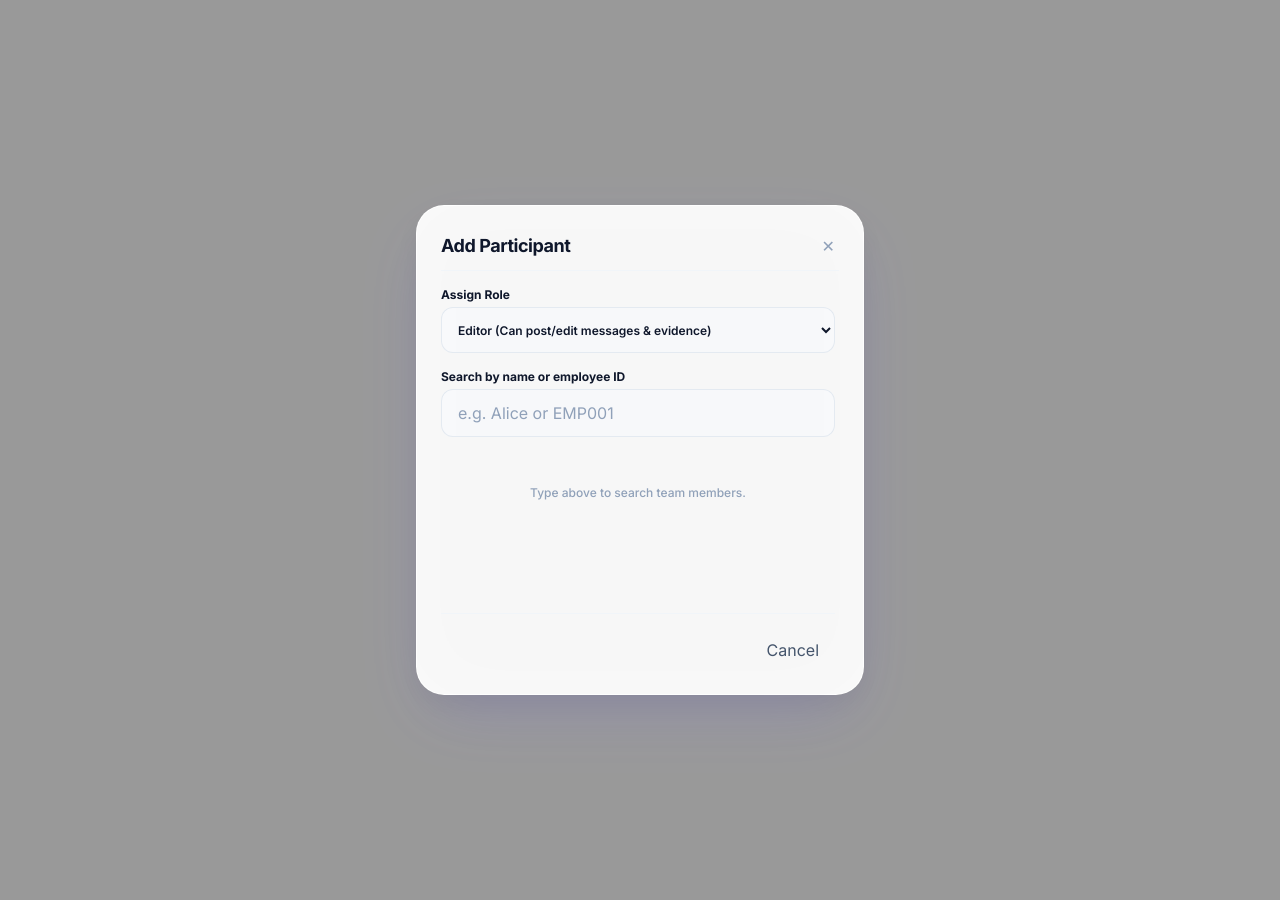
Test: AddParticipantModal — search › shows no results message when search returns empty array
In the field labelled "Search by name or employee ID": point(638, 413) [441, 389, 835, 437], type "xyz"
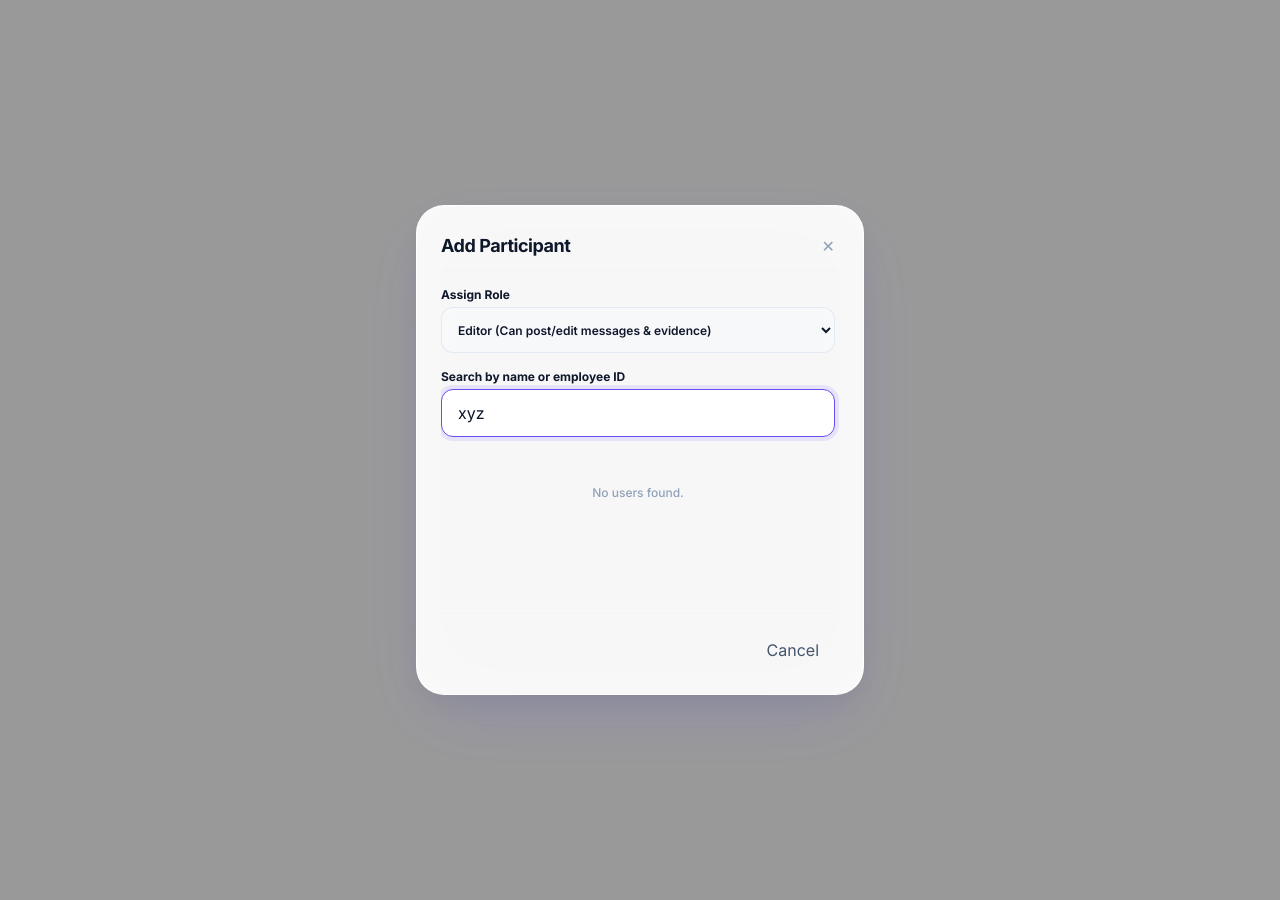
Expected: the text "No users found." is shown, [592, 485, 684, 500]
